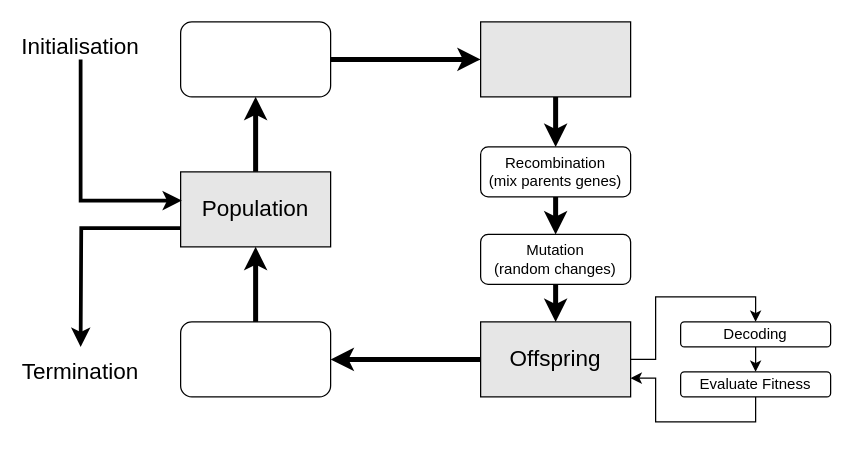
Some shapes in this 853 by 454 pixel diagram are drawn without their labels. The centre of each missing label's shape, as x and y in pixels:
Parent Selection (fitness-biassed random): pixel 255 59
Parents (mating pool): pixel 555 59
Survivor Selection Age or fitness biassed: pixel 255 359
